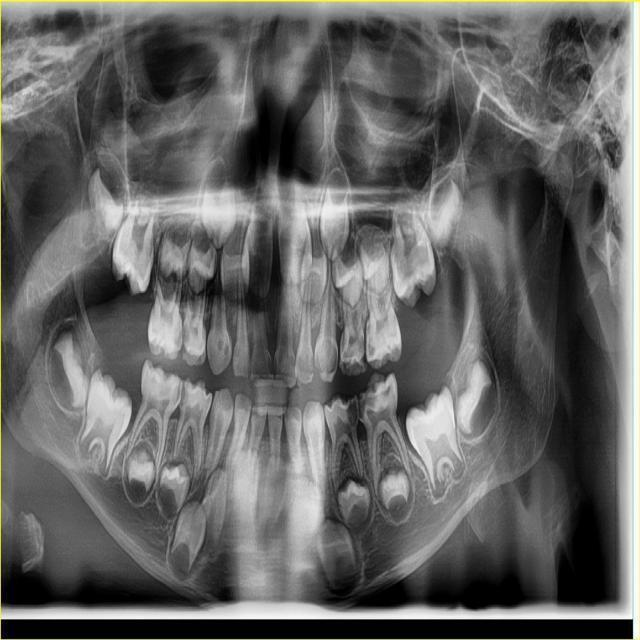Caries: (358, 381, 390, 422), (340, 337, 366, 373), (315, 347, 338, 374), (346, 397, 358, 427), (182, 321, 191, 356), (366, 332, 376, 363), (179, 381, 190, 409), (298, 355, 313, 374), (216, 337, 230, 357), (173, 381, 183, 408), (273, 354, 279, 385), (175, 322, 182, 348), (265, 354, 272, 379), (234, 344, 241, 357), (291, 353, 296, 368)
